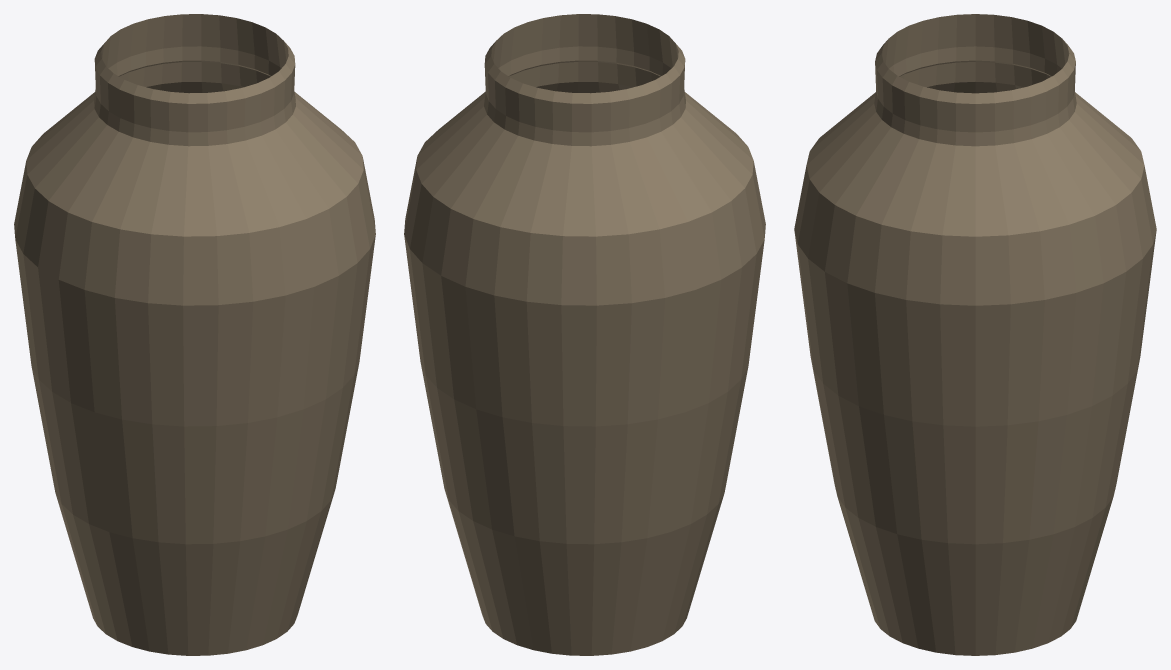
File: vase.fbx
3 views of the same model, side by side, from view 1: azimuth 30°, elevation 25°; view 2: azimuth 150°, elevation 25°; view 3: azimuth 270°, elevation 25° (orthographic).
Visible parts, largest first — view 1: Circle; view 2: Circle; view 3: Circle.
Boxes of the visible parts, x1,y1,x2,y2 form: Circle: [14, 14, 375, 655]; Circle: [404, 14, 765, 655]; Circle: [794, 14, 1156, 655].
Bounding box in the file's own units: 279 × 475 × 279.
